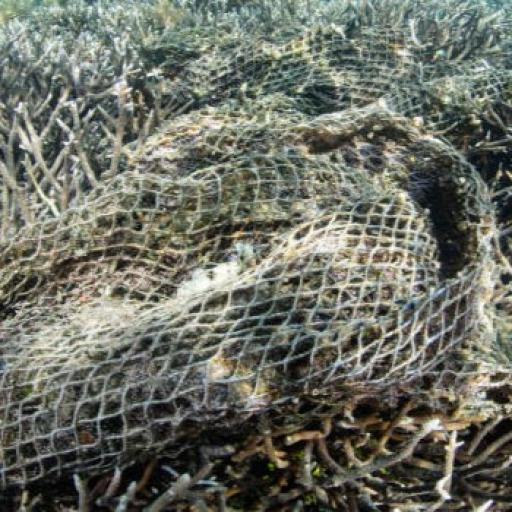net: (6, 4, 510, 492)
